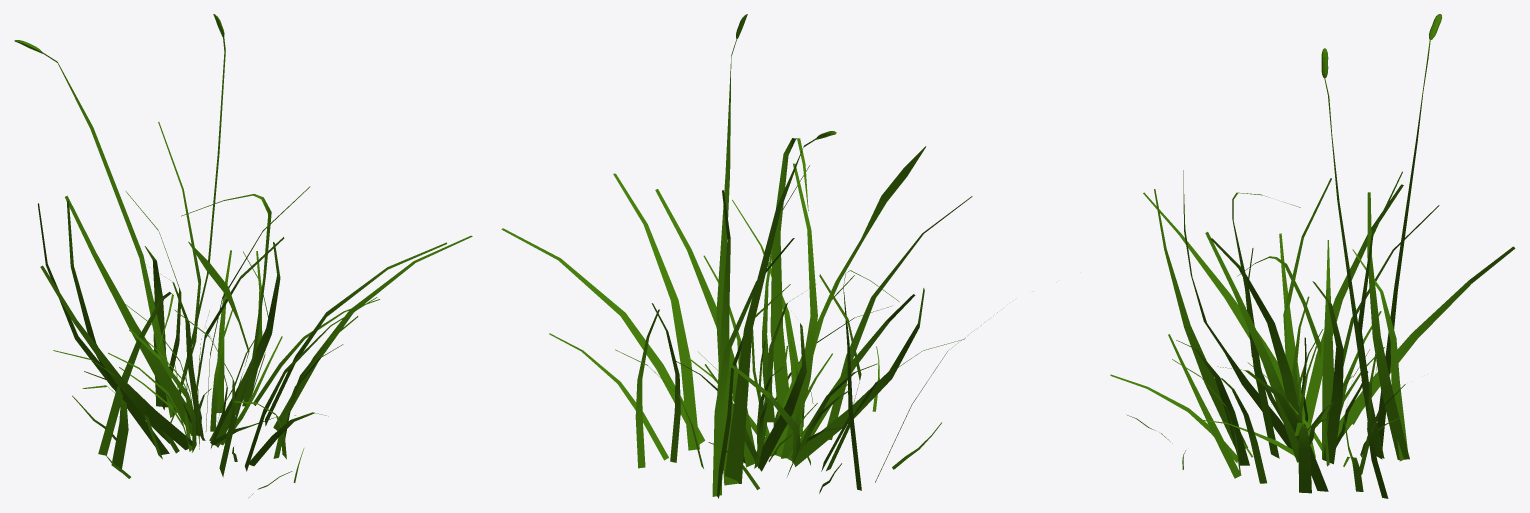
Rendered from grass 4.fbx.
3 renders of one model, left to right at view 1: azimuth 30°, elevation 25°; view 2: azimuth 150°, elevation 25°; view 3: azimuth 270°, elevation 25°, orthographic. The views are drawn at different scales.
Visible parts, largest first — view 1: allGrass_001:grassClump_005pSphere7; view 2: allGrass_001:grassClump_005pSphere7; view 3: allGrass_001:grassClump_005pSphere7.
Boxes of the visible parts, x1,y1,x2,y2 form: allGrass_001:grassClump_005pSphere7: (14, 14, 472, 497); allGrass_001:grassClump_005pSphere7: (501, 14, 997, 498); allGrass_001:grassClump_005pSphere7: (1110, 14, 1515, 498).
Size of the model in its own units: 13.82 by 12.06 by 10.46.
